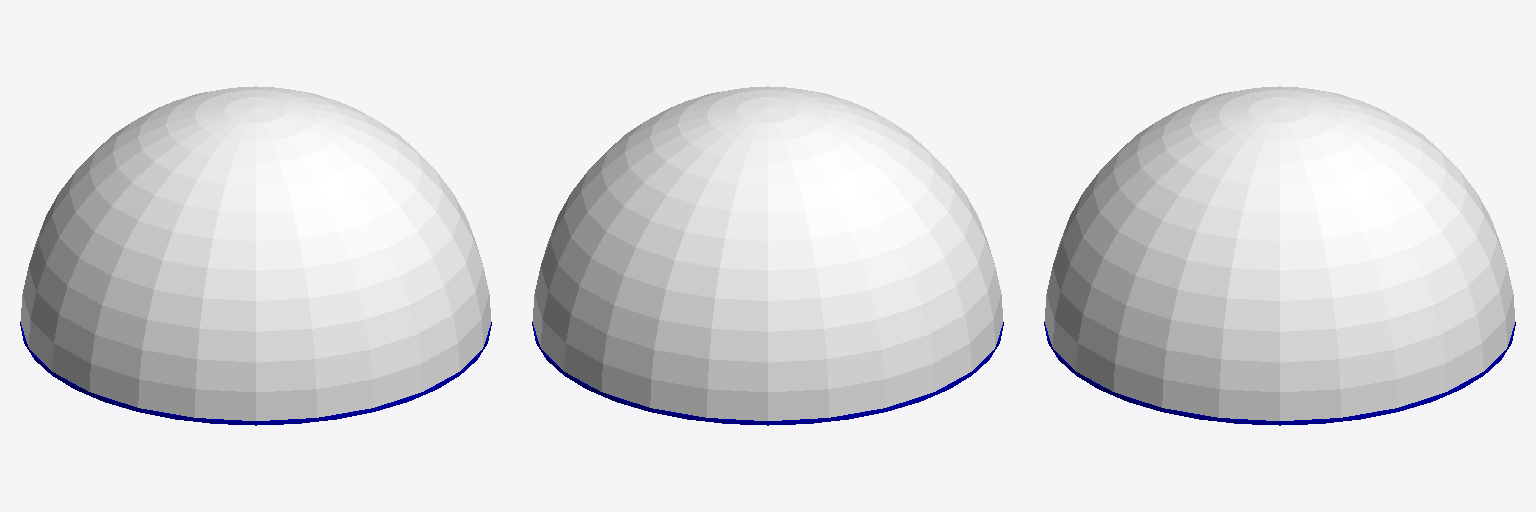
URDF robot description (visual):
<?xml version="1.0"?>
<robot name="visual">


<!-- MATERIALS -->
<material name="blue">
    <color rgba="0 0 0.8 1"/>
  </material>
  <material name="black">
    <color rgba="0 0 0 1"/>
  </material>
  <material name="white">
    <color rgba="1 1 1 1"/>
  </material>


<!-- BASE -->
  <link name="base_link">
    <visual>
      <origin rpy="0 0 -1.57075" xyz="0 0 0"/>
      <geometry>
        <mesh filename="package://testbot/meshes/Base.dae"/>
      </geometry>
      <material name="blue"/>
    </visual>
  </link>

<!-- DOME -->
    
  <link name="dome">
    <visual>
      <geometry>
        <mesh filename="package://testbot/meshes/dome.dae"/>
      </geometry>
      <origin rpy="0 0 0" xyz="0 0 0"/>
    </visual>
  </link>

  <joint name="base_to_dome" type="fixed">
    <parent link="base_link"/>
    <child link="dome"/>
    <origin xyz="0 0 0.005"/>
  </joint> 
    
<!-- KINECT -->
    
  <link name="kinect">
    <visual>
      <geometry>
        <mesh filename="package://testbot/meshes/Kinect.dae"/>
      </geometry>
      <origin rpy="0 0 -1.57075" xyz="0 0 0"/>
    </visual>
  </link>

  <joint name="dome_to_kinect" type="fixed">
    <parent link="dome"/>
    <child link="kinect"/>
    <origin xyz="0 0 0.25"/>
  </joint>     
    
<!-- WHEELS -->

  <link name="wheel_r">
    <visual>
      <geometry>
        <mesh filename="package://testbot/meshes/Rad_gelb.dae"/>
      </geometry>
      <origin rpy="0 0 1.57075" xyz="0 0 0"/>
    </visual>
  </link>

  <joint name="base_to_wheel_r" type="fixed">
    <parent link="base_link"/>
    <child link="wheel_r"/>
    <origin xyz="0 -0.19 0.05"/>
  </joint>  

  <link name="wheel_l">
    <visual>
      <geometry>
        <mesh filename="package://testbot/meshes/Rad_gelb.dae"/>
      </geometry>
      <origin rpy="0 0 1.57075" xyz="0 0 0"/>
    </visual>
  </link>

  <joint name="base_to_wheel_l" type="fixed">
    <parent link="base_link"/>
    <child link="wheel_l"/>
    <origin xyz="0 0.19 0.05"/>
  </joint>


  <link name="einhausung">
    <visual>
      <geometry>
        <mesh filename="package://testbot/meshes/Einhausung.dae"/>
      </geometry>
      <origin rpy="0 0 0" xyz="0 0 0"/>
    </visual>
  </link>

  <joint name="base_to_einhausung" type="fixed">
    <parent link="base_link"/>
    <child link="einhausung"/>
    <origin xyz="-0.145 0 0.005"/>
  </joint>

  <link name="stuetz">
    <visual>
      <geometry>
        <mesh filename="package://testbot/meshes/Stuetzrad.dae"/>
      </geometry>
      <origin rpy="0 0 1.5707963268" xyz="0 0 0"/>
    </visual>
  </link>

  <joint name="base_to_stuetz" type="fixed">
    <parent link="base_link"/>
    <child link="stuetz"/>
    <origin xyz="-0.145 0 0.049"/>
  </joint>


<!-- 
  <link name="left_gripper">
    <visual>
      <origin rpy="0.0 0 0" xyz="0 0 0"/>
      <geometry>
        <mesh filename="package://urdf_tutorial/meshes/l_finger.dae"/>
      </geometry>
    </visual>
  </link>
  <joint name="left_tip_joint" type="fixed">
    <parent link="left_gripper"/>
    <child link="left_tip"/>
  </joint>
  <link name="left_tip">
    <visual>
      <origin rpy="0.0 0 0" xyz="0.09137 0.00495 0"/>
      <geometry>
        <mesh filename="package://urdf_tutorial/meshes/l_finger_tip.dae"/>
      </geometry>
    </visual>
  </link>
  <joint name="right_gripper_joint" type="fixed">
    <origin rpy="0 0 0" xyz="0.2 -0.01 0"/>
    <parent link="gripper_pole"/>
    <child link="right_gripper"/>
  </joint>
-->
</robot>

--- Facts derived from the render (not from the file) ---
3 views of the same robot in one strip: view 1: azimuth 30°, elevation 25°; view 2: azimuth 150°, elevation 25°; view 3: azimuth 270°, elevation 25° (orthographic).
Model visual with 7 links and 6 joints (6 fixed), rooted at base_link, posed all joints at 0.
Links seen in each view (by area): view 1: dome, base_link; view 2: dome, base_link; view 3: dome, base_link.
Link boxes in pixels (x1,y1,x2,y2): dome: (20, 86, 491, 420); base_link: (20, 322, 491, 425); dome: (532, 86, 1003, 420); base_link: (532, 322, 1003, 425); dome: (1044, 86, 1515, 420); base_link: (1044, 322, 1515, 425).
Size in the robot's own frame: 0.5 by 0.5 by 0.255 metres.
3 mesh visuals loaded from 6 distinct referenced files (3 Collada DAE); not drawn: 4 (file found but could not be loaded).